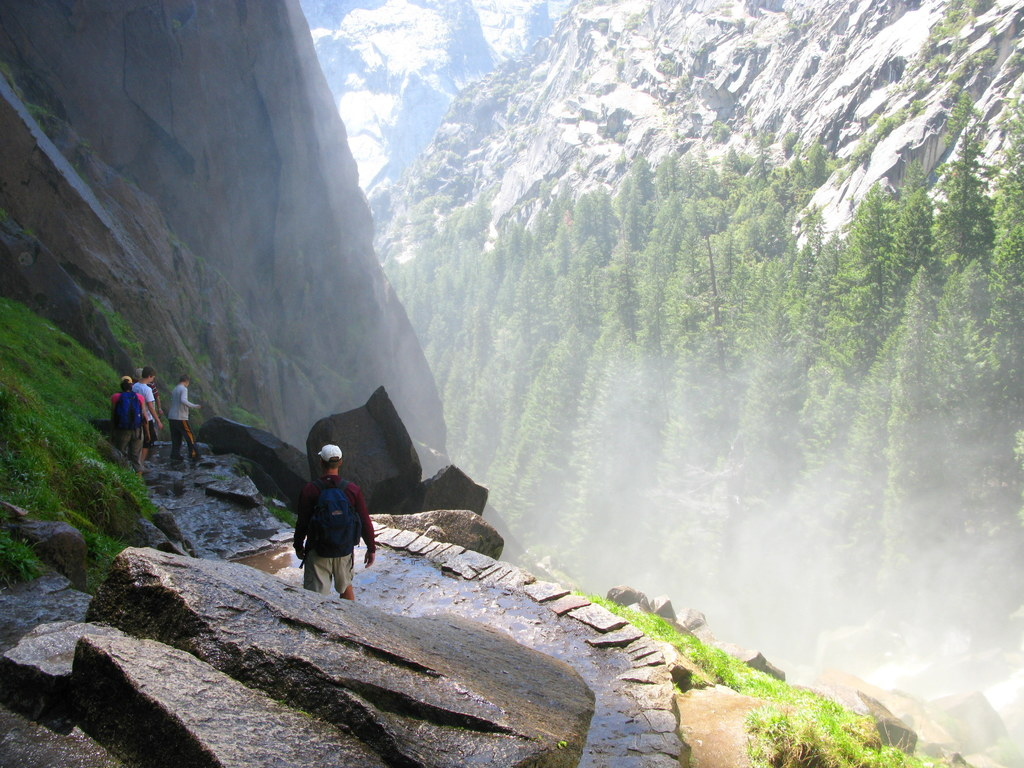Person: (291, 445, 377, 602), (107, 368, 202, 480)
